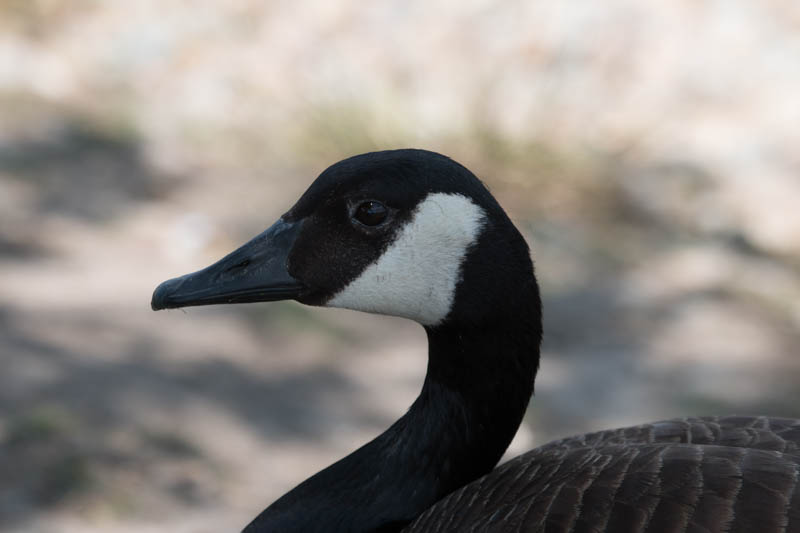goose-head: (149, 149, 543, 327)
